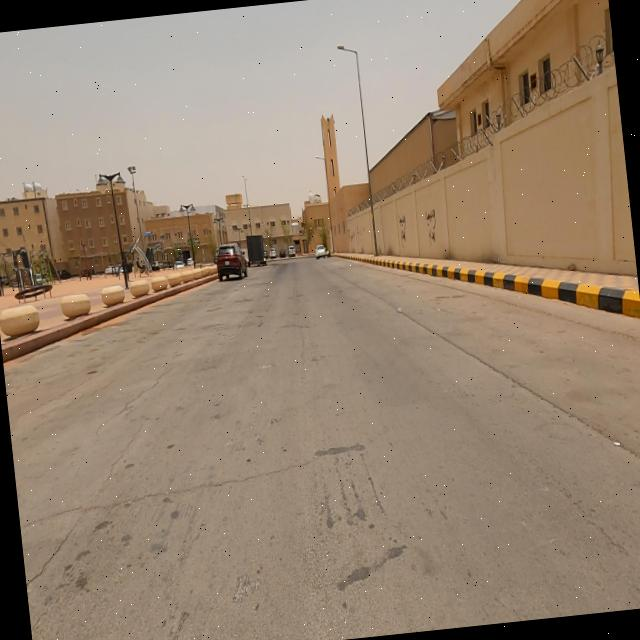Graffiti: (425, 208, 439, 245), (399, 216, 409, 250)
